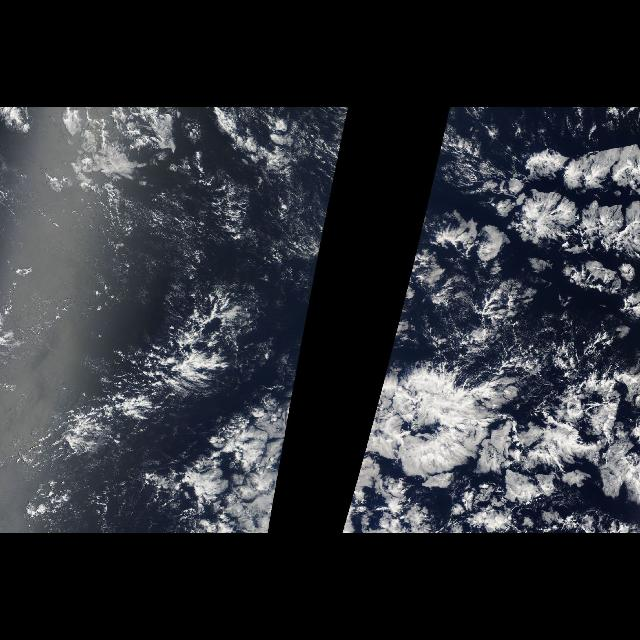Fish: (34, 256, 294, 474)
Flower: (400, 124, 640, 356)
